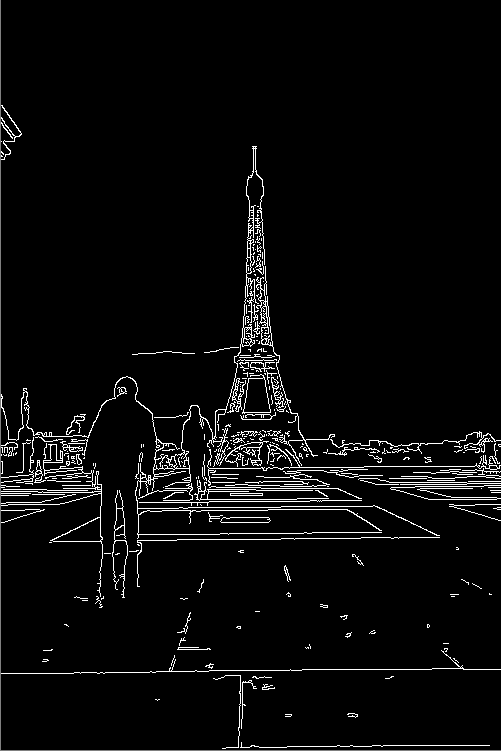eiffel tower: (186, 132, 320, 464)
